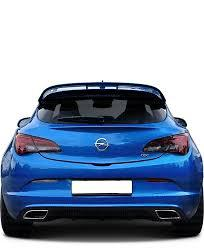opel: (92, 136, 110, 151)
